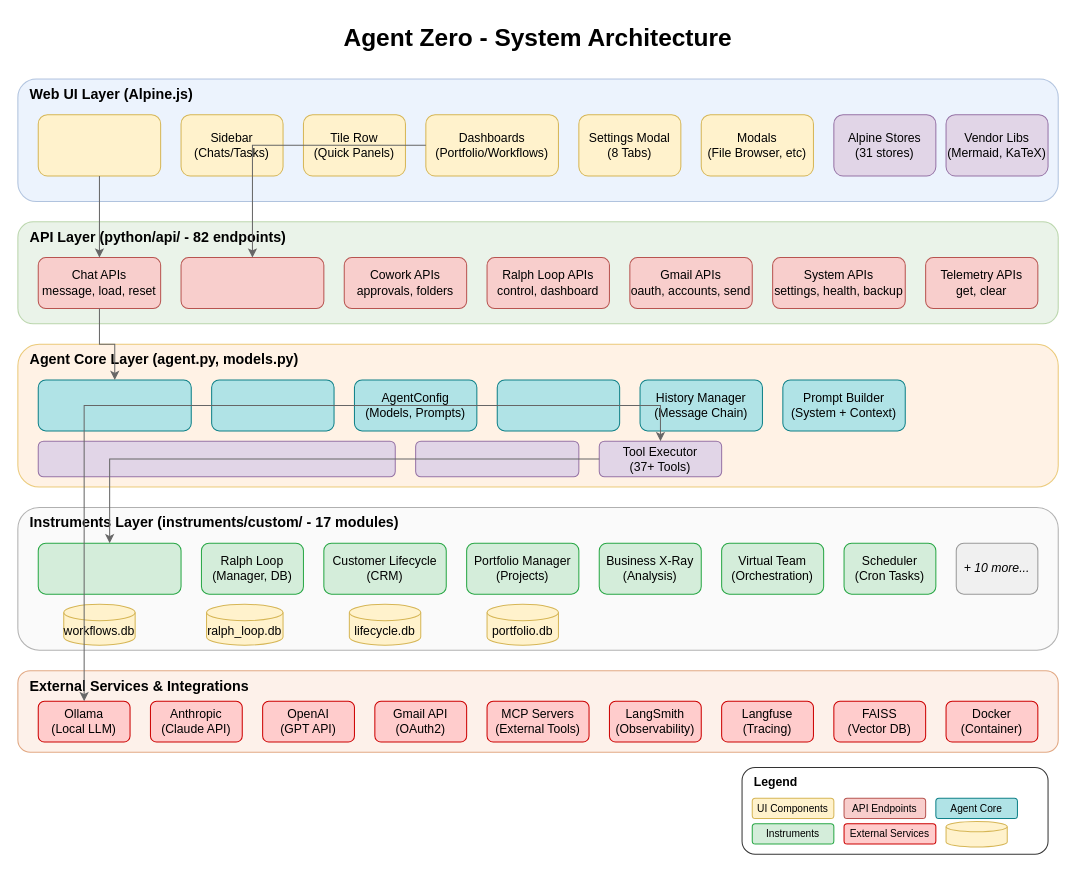
The diagram is 1076 pixels wide and 872 high, and some of its shapes have lost their labels. The box of each missing label's shape, as (x1, y1, x2, y2) in pixels:
Agent (Monologue Loop): (211, 379, 334, 431)
AgentContext (USER/TASK/BACKGROUND): (37, 379, 191, 431)
Chat Interface (index.html): (37, 114, 161, 176)
Database: (945, 821, 1007, 847)
Extension System (Hooks: monologue, tool, prompt, memory): (37, 440, 395, 477)
LiteLLM Wrapper (Multi-Provider): (496, 379, 620, 431)
MCP Handler (External Tool Protocol): (415, 440, 579, 477)
Workflow APIs engine, training, dashboard: (180, 257, 324, 309)
Workflow Engine (Manager, DB, Visualizer): (37, 542, 181, 594)
